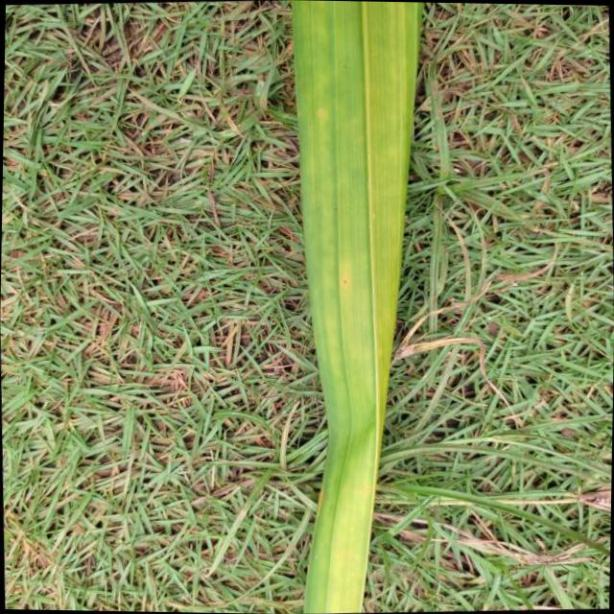nitrogen: (291, 0, 421, 614)
